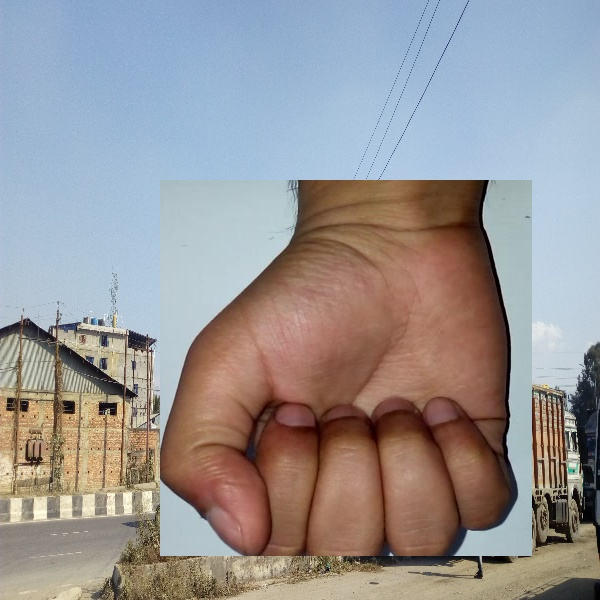A: (160, 180, 532, 556)
